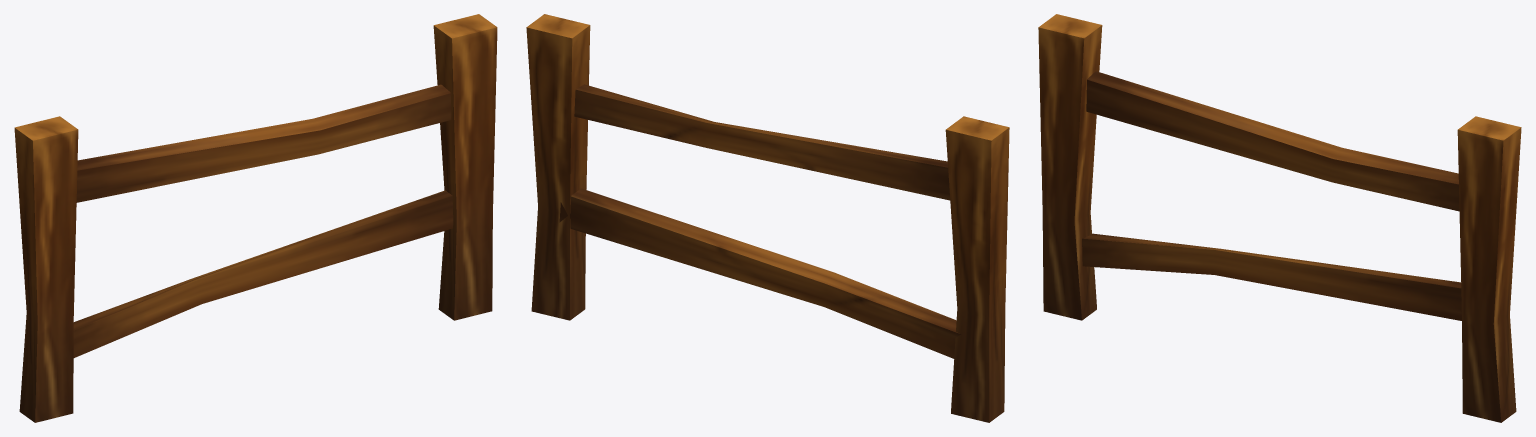
File: fence_1.fbx
The picture shows the model from 3 angles, left to right: view 1: azimuth 30°, elevation 25°; view 2: azimuth 150°, elevation 25°; view 3: azimuth 330°, elevation 25°; orthographic projection.
Parts seen in each view (by area): view 1: fence_1; view 2: fence_1; view 3: fence_1.
Part boxes in pixels (x1,y1,x2,y2): fence_1: (14,14,497,422); fence_1: (526,14,1009,422); fence_1: (1038,14,1521,422).
Size of the model in its own units: 1.92 by 1.12 by 0.1487.
